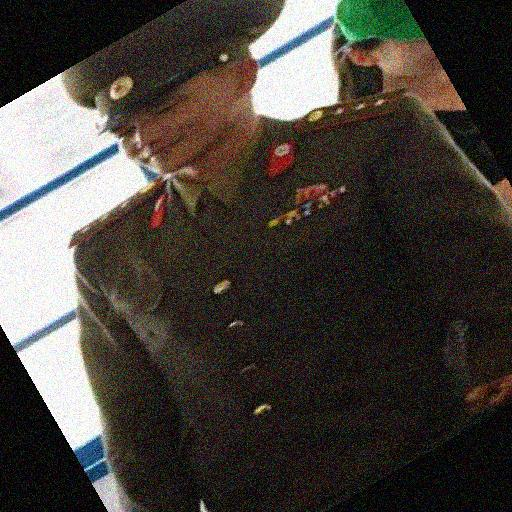north army: (65, 25, 472, 512)
